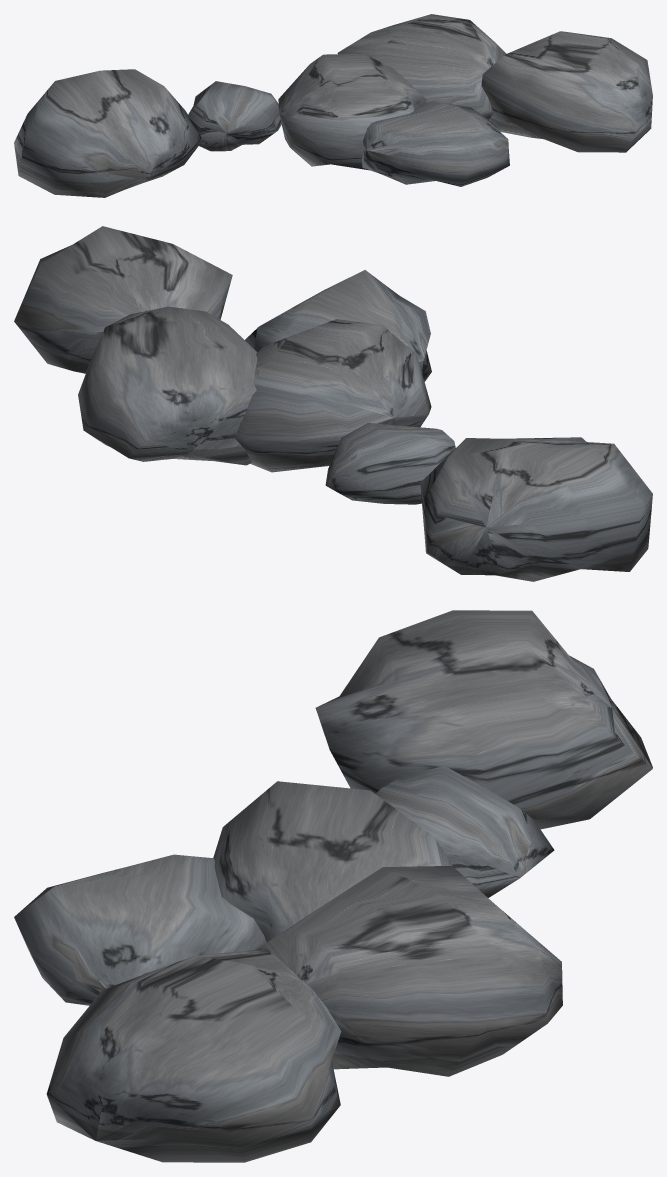
The model's file is rock_pebbles_l0.gltf.
3 views of the same model, one above another, from view 1: azimuth 30°, elevation 25°; view 2: azimuth 150°, elevation 25°; view 3: azimuth 270°, elevation 25° (orthographic). The views are drawn at different scales.
Parts seen in each view (by area): view 1: rock_pebbles_l0; view 2: rock_pebbles_l0; view 3: rock_pebbles_l0.
Part boxes in pixels (x1,y1,x2,y2): rock_pebbles_l0: (14,14,652,197); rock_pebbles_l0: (14,226,652,581); rock_pebbles_l0: (14,610,652,1162).
Size of the model in its own units: 2.17 by 0.3289 by 1.26.
1 material, 1 textured.
